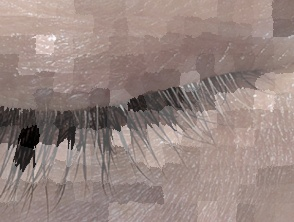vitiligo: (137, 54, 281, 155)
